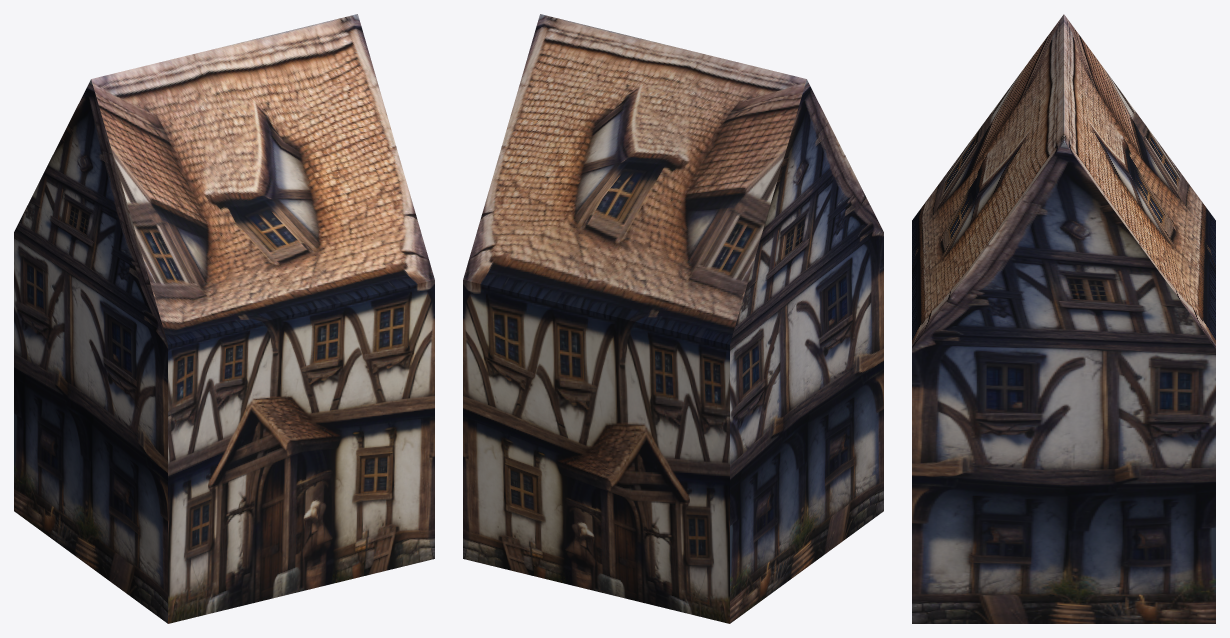
Rendered from haus03.fbx.
3 renders of one model, left to right at view 1: azimuth 30°, elevation 25°; view 2: azimuth 150°, elevation 25°; view 3: azimuth 270°, elevation 25°, orthographic.
Parts seen in each view (by area): view 1: Cube; view 2: Cube; view 3: Cube.
Part boxes in pixels (box(x1,y1,x2,y2)): Cube: box(14, 14, 434, 623); Cube: box(463, 14, 883, 623); Cube: box(912, 14, 1215, 623).
Size of the model in its own units: 400 by 700 by 400.
